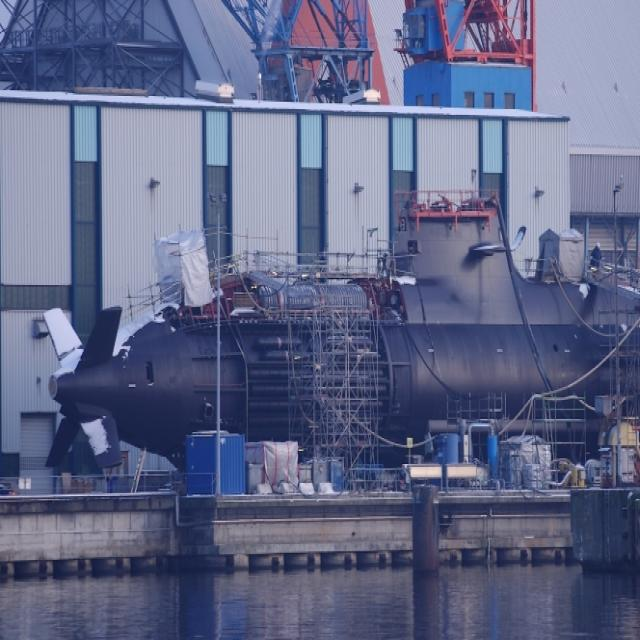submarine: (45, 205, 640, 471)
